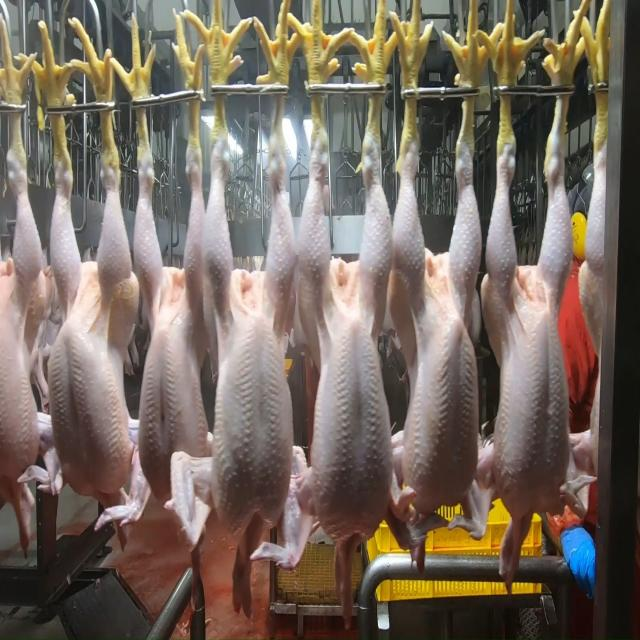chicken: (200, 123, 311, 535), (300, 120, 394, 542), (486, 118, 578, 512), (390, 135, 484, 513), (45, 161, 139, 518), (126, 158, 211, 502), (0, 154, 46, 490)
